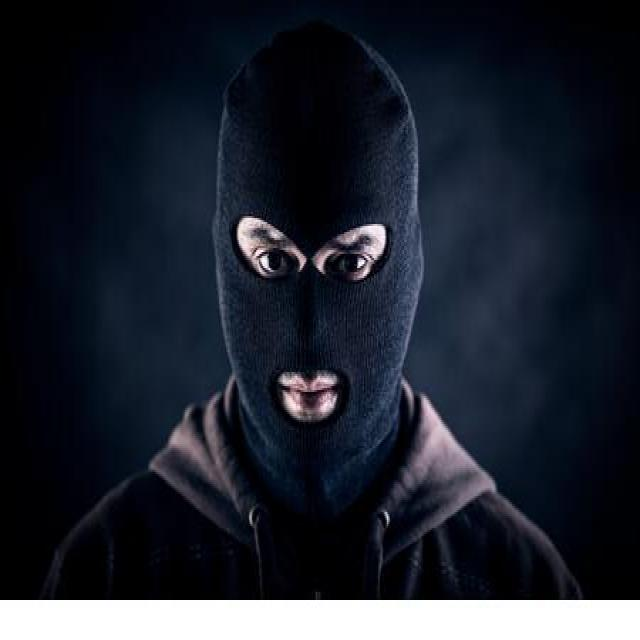6_pasamontana: (211, 16, 426, 500)
